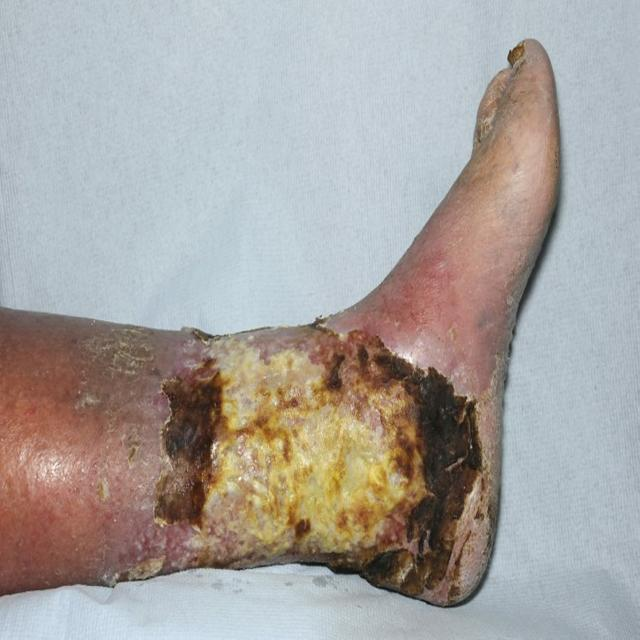wound: (120, 308, 495, 611)
